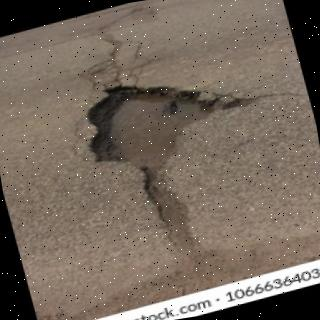pothole: (88, 86, 216, 246)
